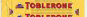grozi_68: (0, 0, 87, 16)
